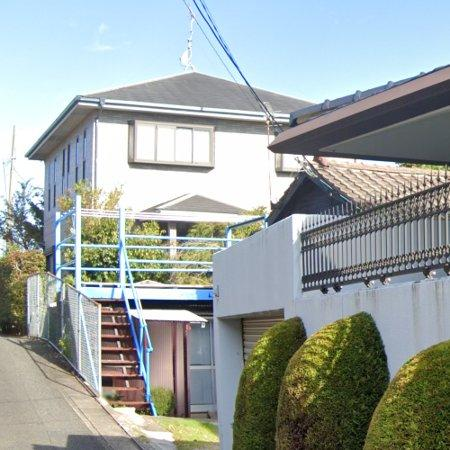stairs: (103, 306, 149, 410)
